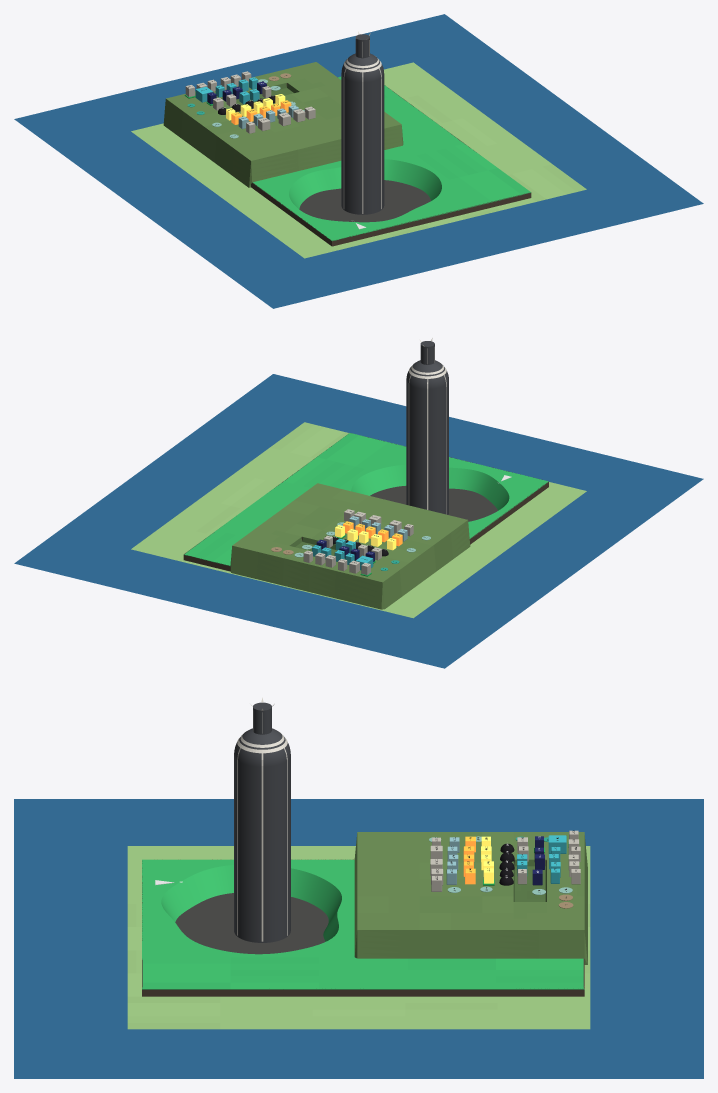
File: tots-model.glb
3 renders of one model, top to bottom at view 1: azimuth 30°, elevation 25°; view 2: azimuth 150°, elevation 25°; view 3: azimuth 270°, elevation 25°, orthographic. The views are drawn at different scales.
Visible parts, largest first — view 1: 海, 無實體_東側, 導師之間_柱身, 無實體_西側, 平原_東側帶, 高原面_南, 導師之間_塔底盆地, 平原_南側塊, 高原轉無實體_西坡, 高原轉平原_南坡, 平原岩壁_南, 高原面_北 (+5 smaller); view 2: 海, 無實體_東側, 高原面_南, 平原_東側帶, 無實體_西側, 導師之間_柱身, 高原轉無實體_北坡, 導師之間_塔底盆地, 平原_南側塊, 高原轉無實體_西坡, 高原面_北, 導師之間_肩部收頸 (+3 smaller); view 3: 海, 無實體_東側, 平原_東側帶, 高原面_南, 導師之間_柱身, 導師之間_塔底盆地, 平原_南側塊, 高原轉平原_東坡, 平原岩壁_東, 無實體_西側, 高原面_北, 無實體_南側 (+5 smaller).
Boxes of the visible parts, bbox=[...] form: 海: bbox=[14, 14, 703, 308]; 無實體_東側: bbox=[384, 62, 586, 201]; 導師之間_柱身: bbox=[341, 74, 384, 214]; 無實體_西側: bbox=[131, 123, 357, 258]; 平原_東側帶: bbox=[338, 76, 530, 204]; 高原面_南: bbox=[193, 82, 401, 160]; 導師之間_塔底盆地: bbox=[289, 159, 441, 222]; 平原_南側塊: bbox=[252, 145, 482, 241]; 高原轉無實體_西坡: bbox=[163, 99, 250, 187]; 高原轉平原_南坡: bbox=[251, 124, 402, 182]; 平原岩壁_南: bbox=[331, 193, 531, 246]; 高原面_北: bbox=[166, 62, 329, 108]; 海: bbox=[14, 374, 703, 668]; 無實體_東側: bbox=[131, 422, 348, 561]; 高原面_南: bbox=[259, 483, 467, 562]; 平原_東側帶: bbox=[184, 433, 397, 565]; 無實體_西側: bbox=[360, 482, 586, 618]; 導師之間_柱身: bbox=[406, 381, 448, 514]; 高原轉無實體_北坡: bbox=[231, 545, 382, 609]; 導師之間_塔底盆地: bbox=[351, 465, 509, 521]; 平原_南側塊: bbox=[339, 444, 548, 538]; 高原轉無實體_西坡: bbox=[382, 520, 470, 608]; 高原面_北: bbox=[232, 535, 396, 582]; 導師之間_肩部收頸: bbox=[406, 360, 448, 389]; 海: bbox=[14, 799, 703, 1078]; 無實體_東側: bbox=[127, 996, 590, 1029]; 平原_東側帶: bbox=[142, 957, 584, 989]; 高原面_南: bbox=[357, 832, 513, 929]; 導師之間_柱身: bbox=[234, 755, 290, 942]; 導師之間_塔底盆地: bbox=[161, 865, 341, 954]; 平原_南側塊: bbox=[142, 859, 354, 957]; 高原轉平原_東坡: bbox=[357, 930, 584, 958]; 平原岩壁_東: bbox=[142, 989, 584, 996]; 無實體_西側: bbox=[127, 846, 590, 880]; 高原面_北: bbox=[547, 832, 584, 929]; 無實體_南側: bbox=[127, 880, 141, 996].
Size of the model in its own units: 1745 by 664 by 1819.
